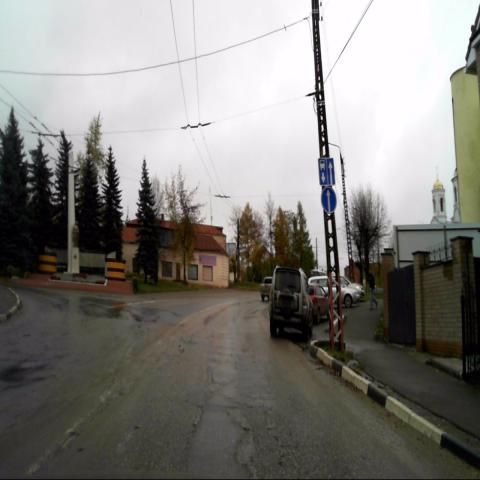5_11: (318, 157, 334, 186)
